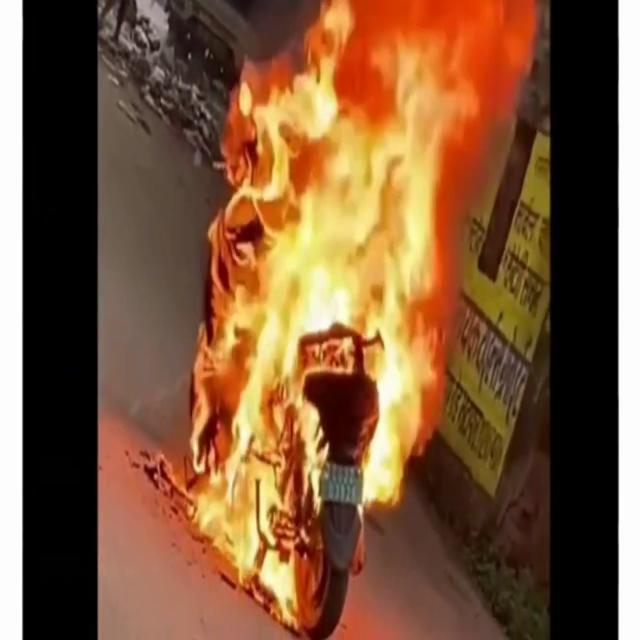Fire: (170, 1, 503, 621)
